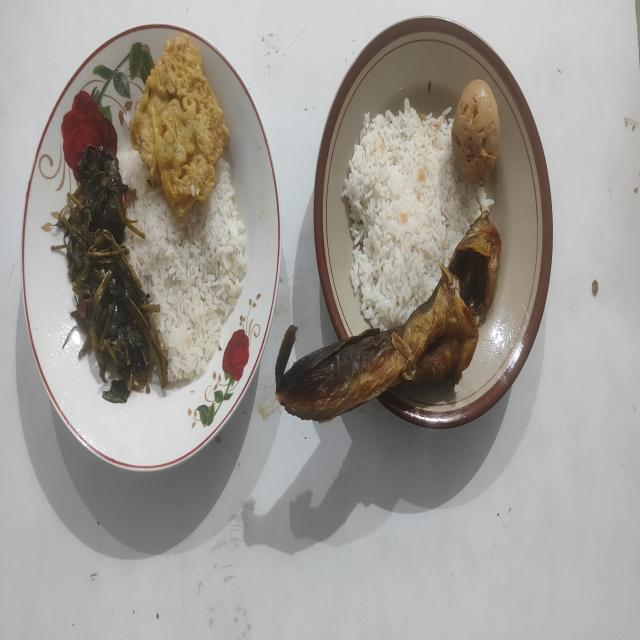nasi_putih: (342, 98, 494, 330), (119, 148, 249, 384)
tumis_kangkung: (51, 146, 168, 402)
